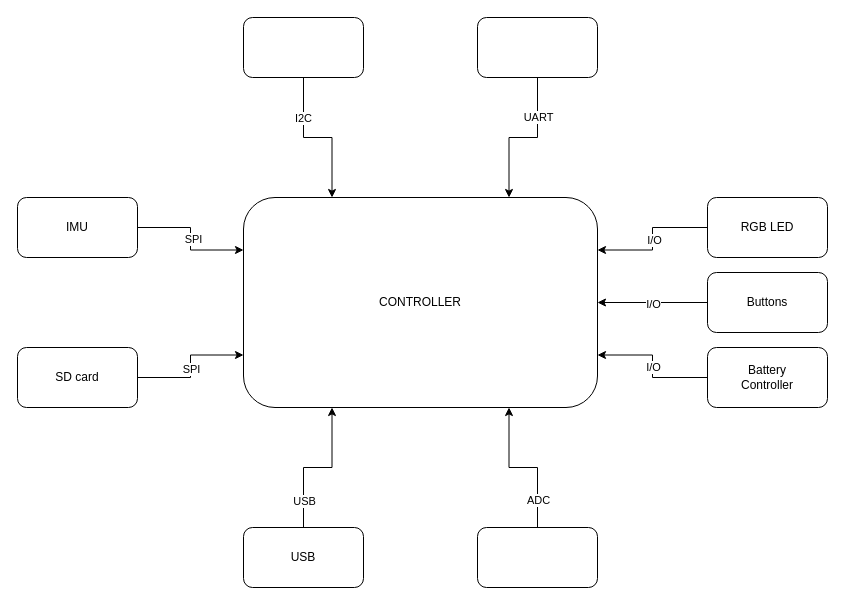
This 845x605 diagram has some shape labels left out. Each missing label, with the centre of its shape:
Battery level: point 537,557
BLE: point 537,47
Display: point 303,47
